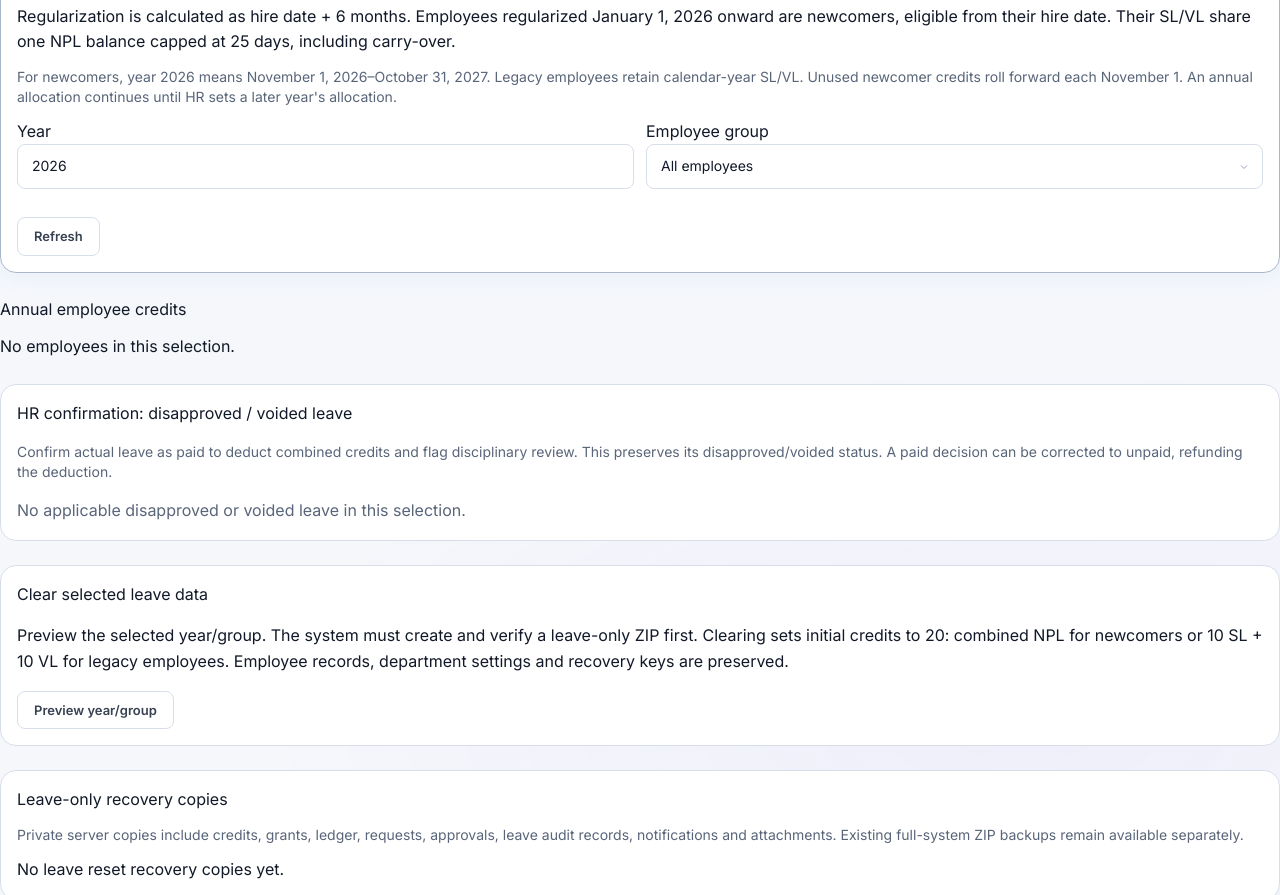
Scenario: surfaces a failed preview and never enables clear
The image size is (1280, 895).
(page scrolled)
Click the button "Preview year/group" at [95, 710], box 17,691 -> 174,730
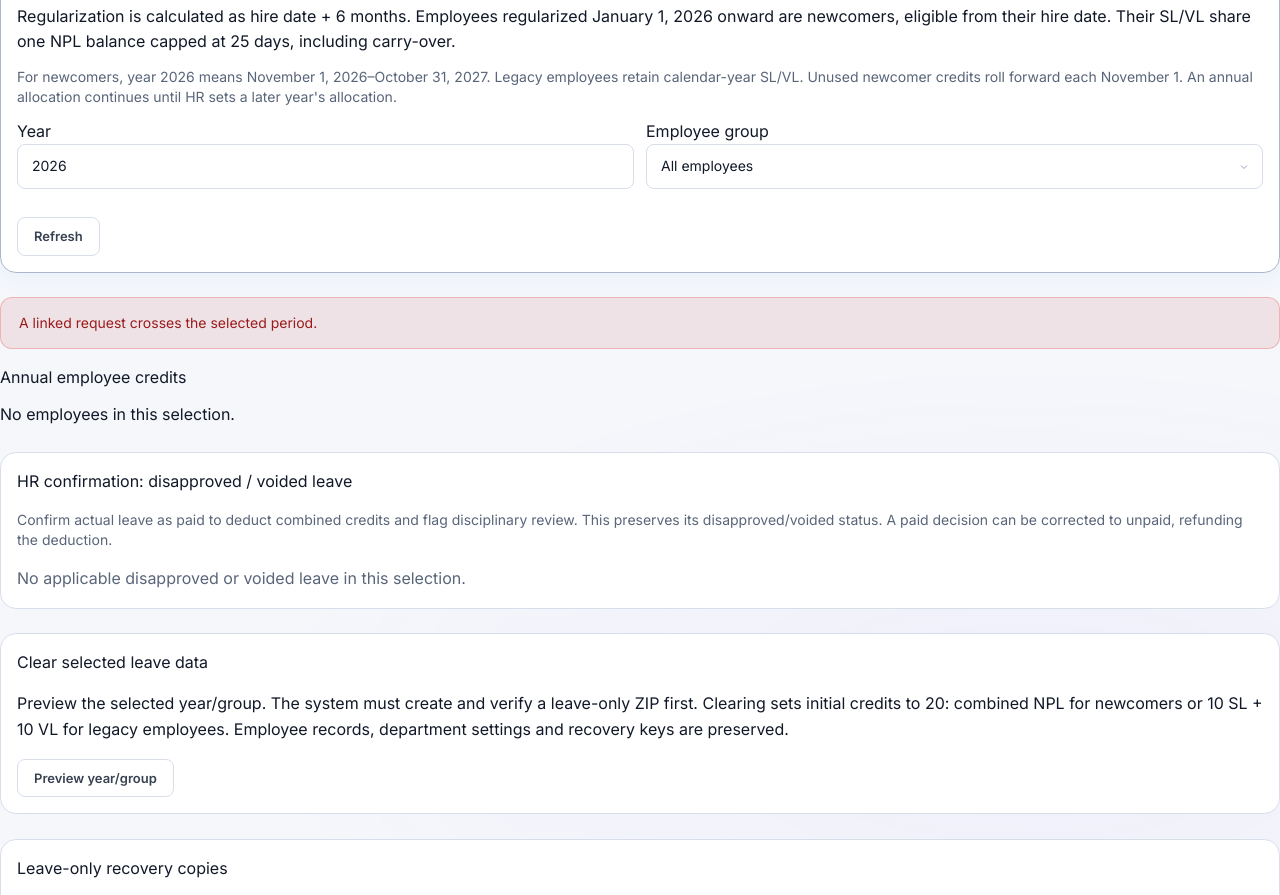
Expected: the message shows "A linked request crosses", 19,314 -> 317,330
